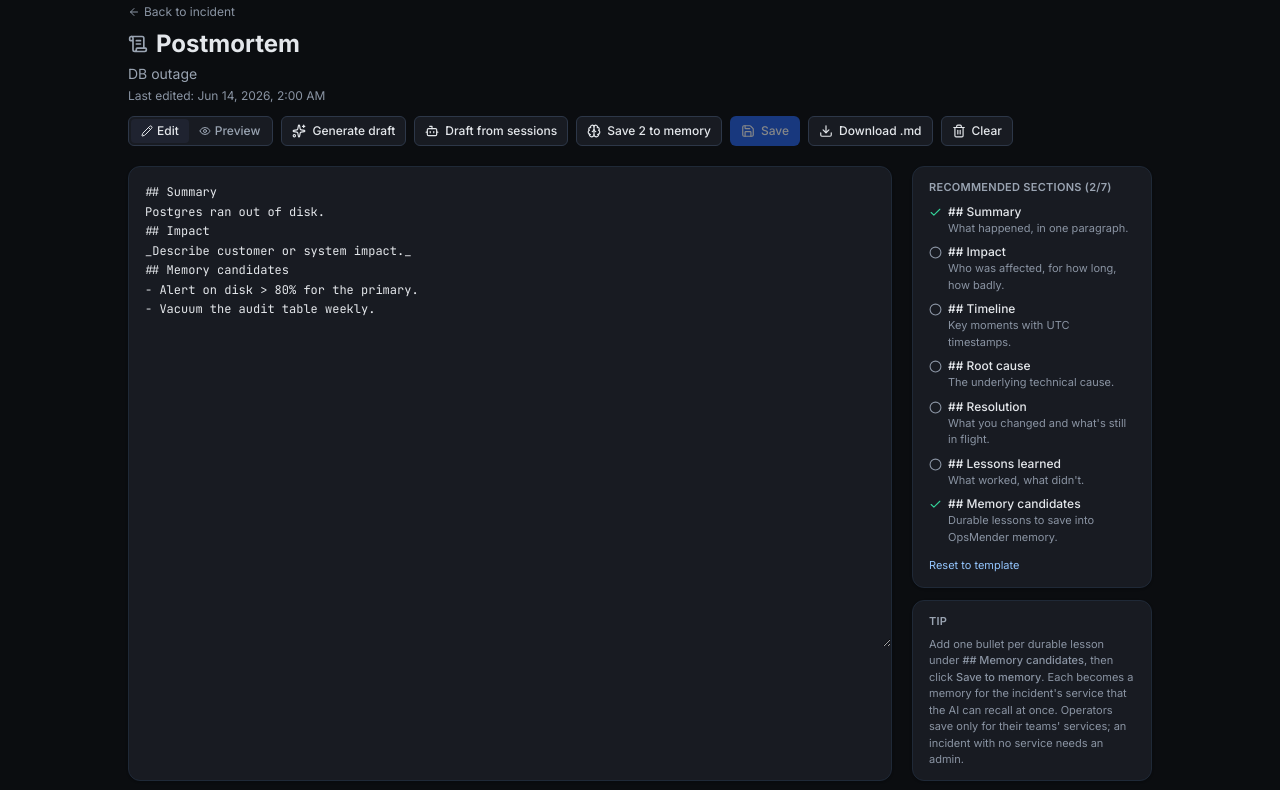
it: Postmortem page Phase 2 polish › shows why saving candidates was refused
Click the button "Save 2 to memory".
click(649, 131)  # box x1=576 y1=116 x2=722 y2=146
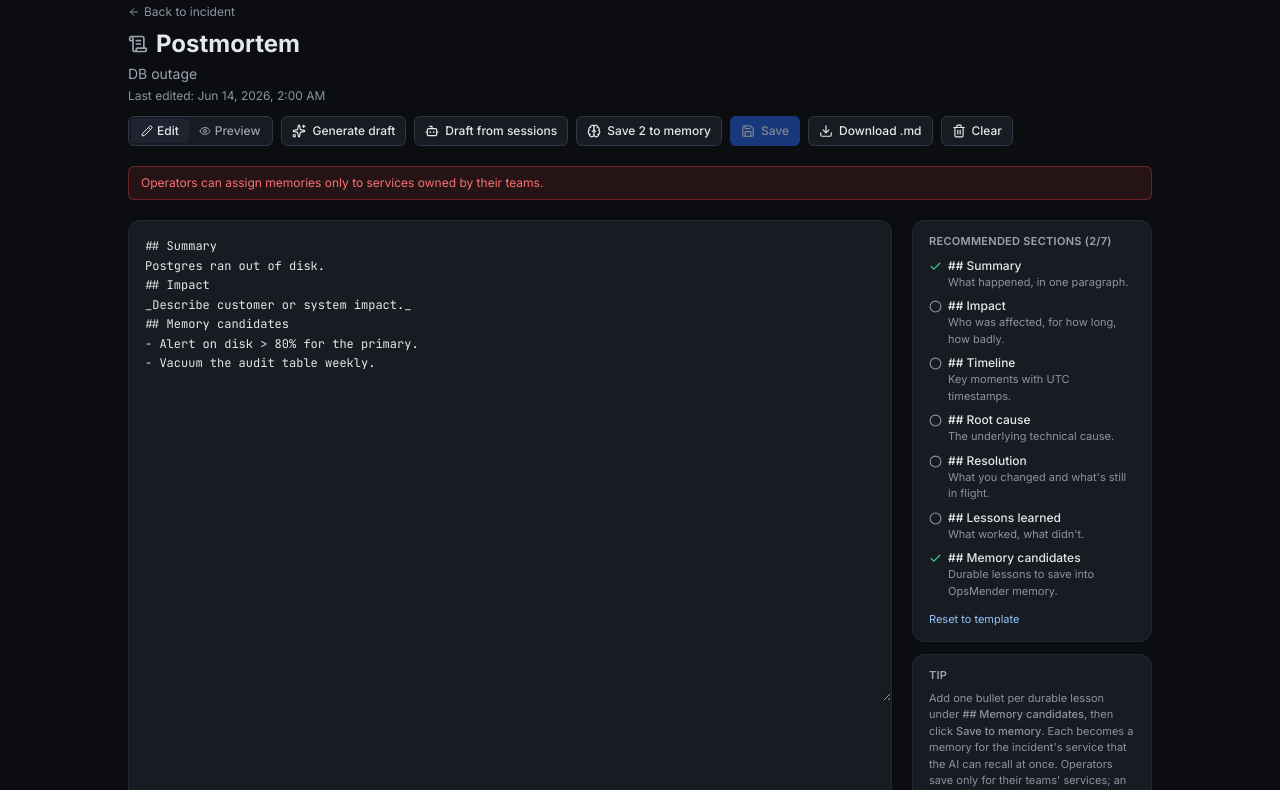
Check: the text "Operators can assign memories only to services owned by their teams." is shown, box x1=128 y1=166 x2=1152 y2=200
